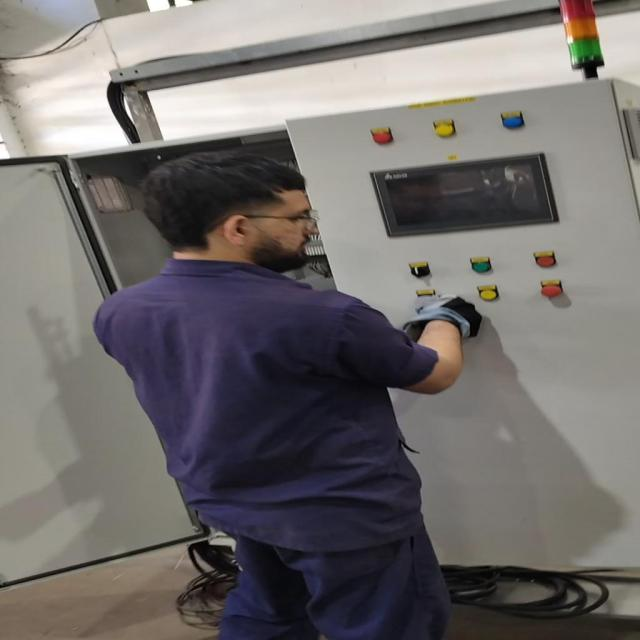Gloves-Detection: (398, 282, 466, 333)
